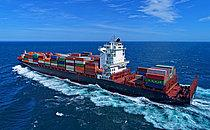Ship: (16, 33, 201, 112)
